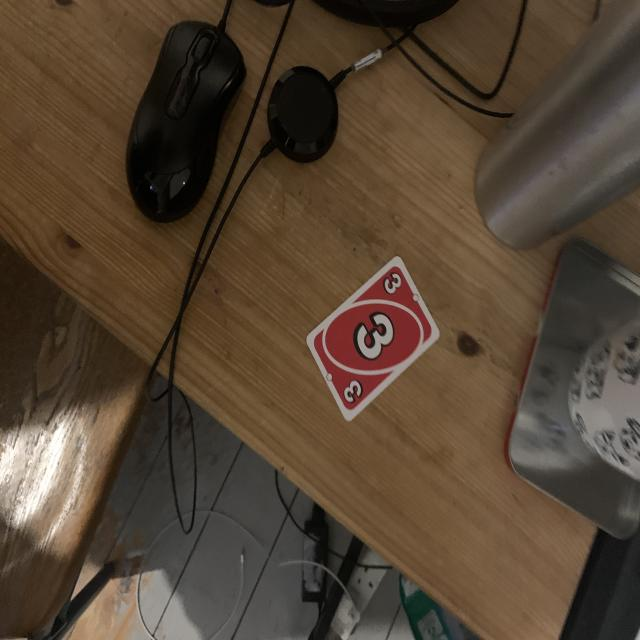lred-3: (380, 269, 405, 298)
